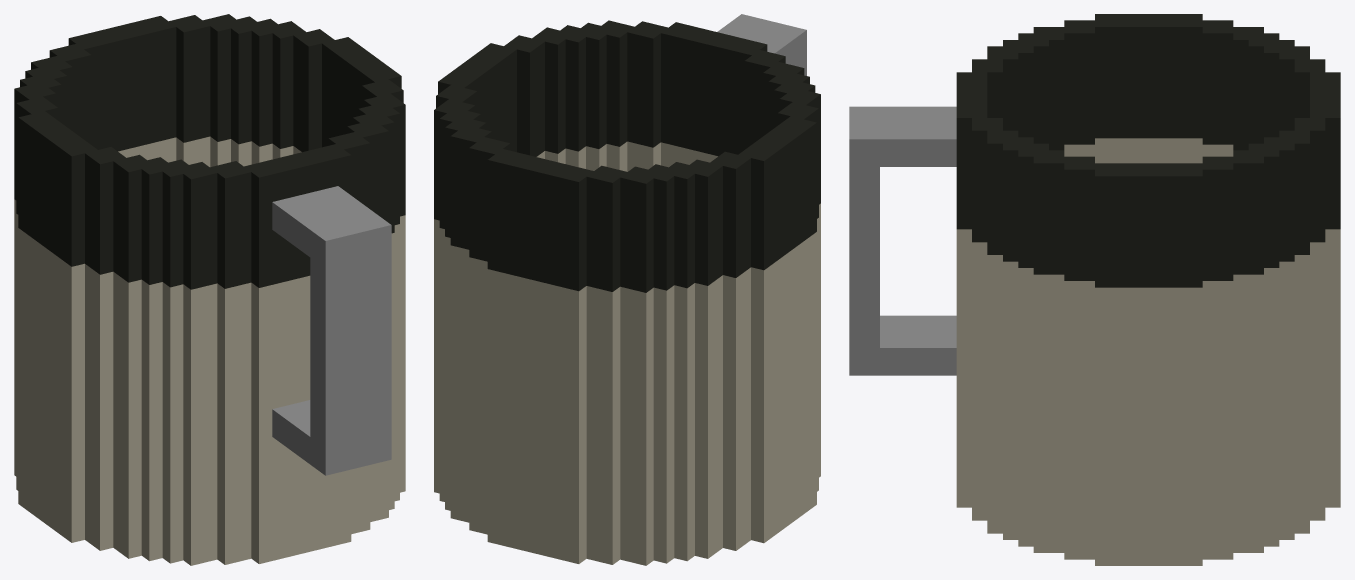
File: coffeeMug_0.obj
3 views of the same model, side by side, from view 1: azimuth 30°, elevation 25°; view 2: azimuth 150°, elevation 25°; view 3: azimuth 270°, elevation 25° (orthographic).
Bounding box in the file's own units: 2.5 × 2.8 × 3.2.
Materials: 1 (1 with a texture image).
